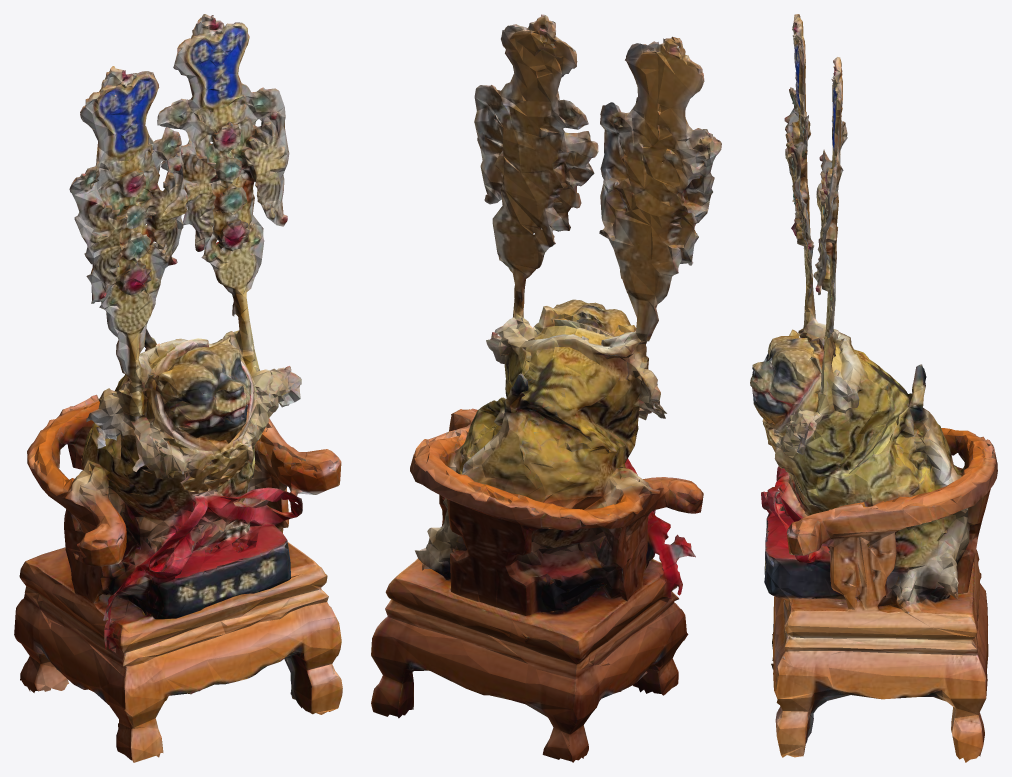
The model's file is jinhu3d.glb.
3 renders of one model, left to right at view 1: azimuth 30°, elevation 25°; view 2: azimuth 150°, elevation 25°; view 3: azimuth 270°, elevation 25°, orthographic. The views are drawn at different scales.
Bounding box in the file's own units: 0.1166 × 0.2834 × 0.0967.
Materials: 1 (1 with a texture image).
